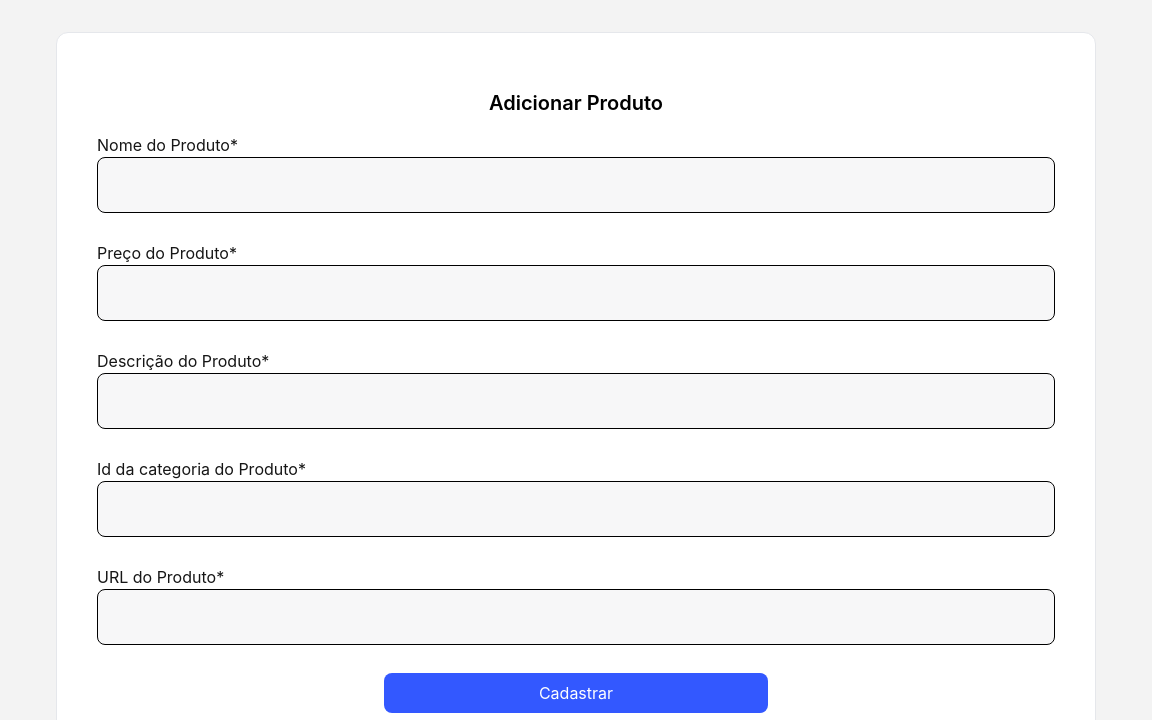
Scenario: AddProduct Component › should show validation errors when submitting empty form
Click the button "Cadastrar" at (576, 693), box left=384, top=673, right=768, bottom=713
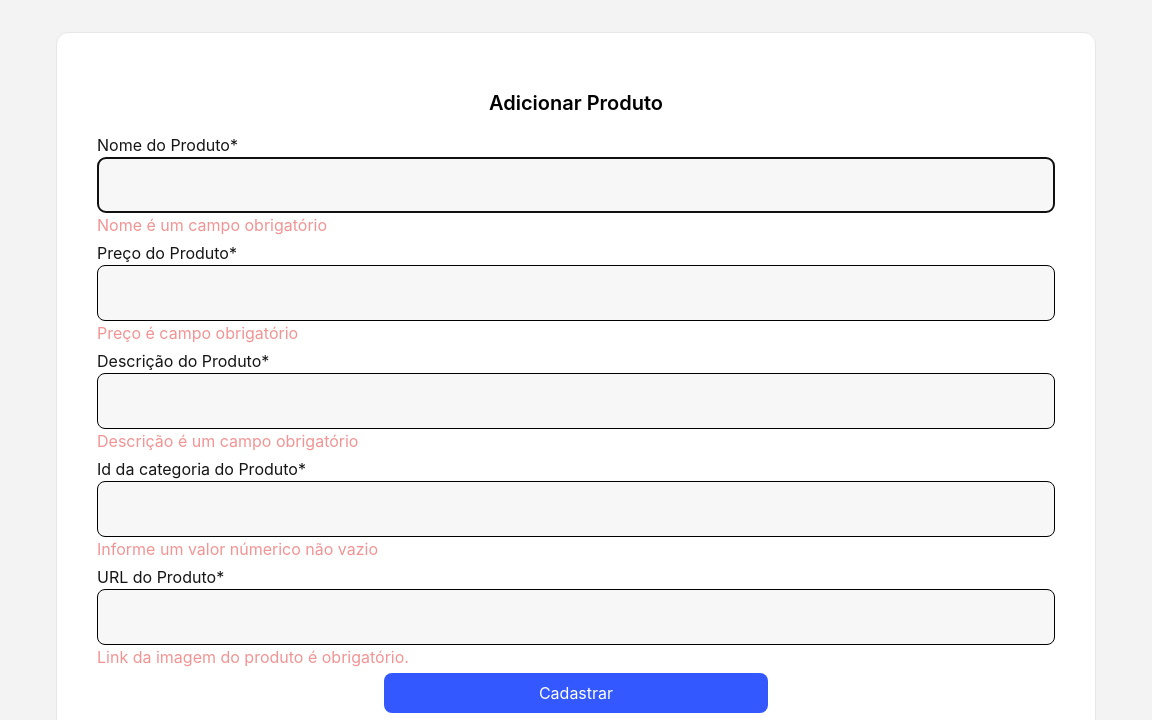
Expected: the text "Nome é um campo obrigatório" is shown, left=97, top=215, right=327, bottom=235
Expected: the text "Preço é campo obrigatório" is shown, left=97, top=323, right=298, bottom=343
Expected: the text "Descrição é um campo obrigatório" is shown, left=97, top=431, right=358, bottom=451
